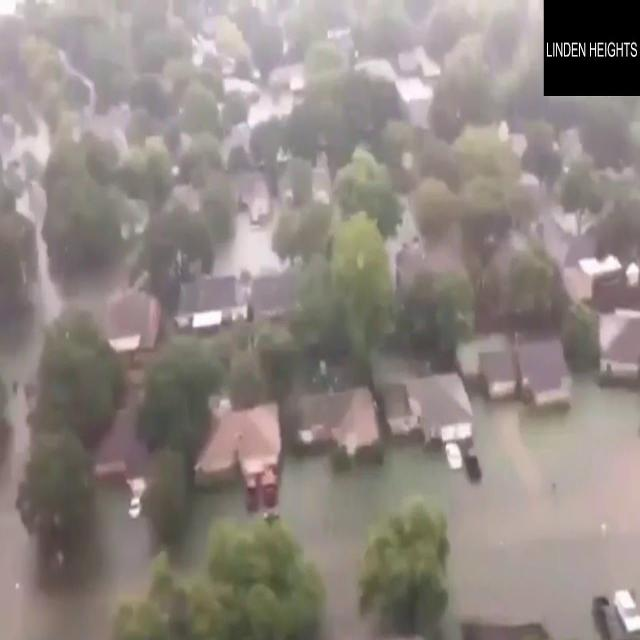flooded_areas: (0, 40, 640, 639)
